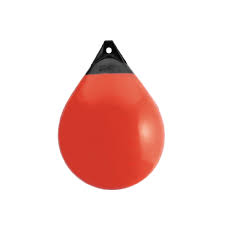buoy: (58, 74, 166, 189)
